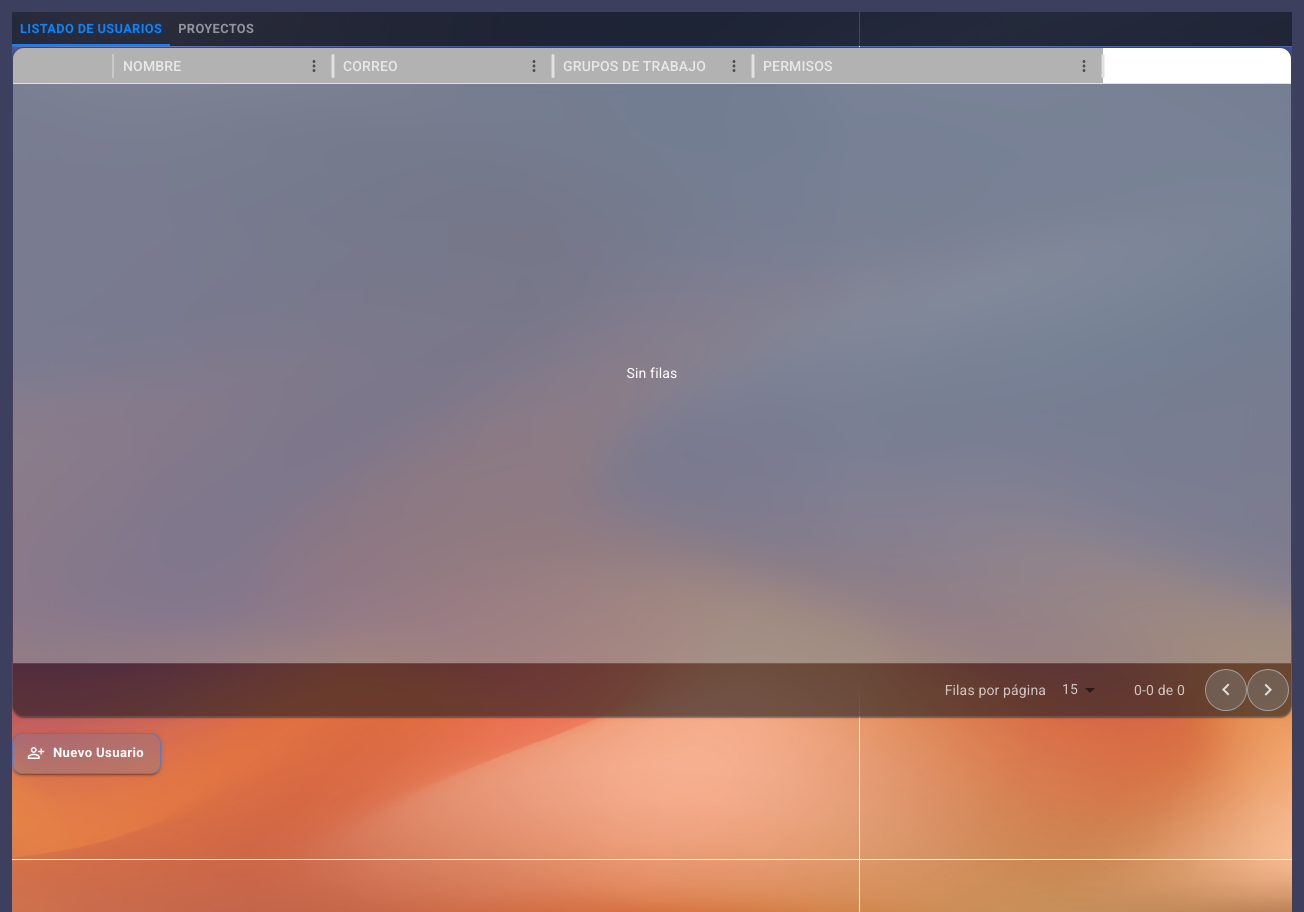
Test: AdministratorPage › navegación de pestañas › debe mostrar el botón "Nuevo Proyecto" en la pestaña de Proyectos
Click the tab "Proyectos".
click(216, 29)  # box [170,12,262,46]
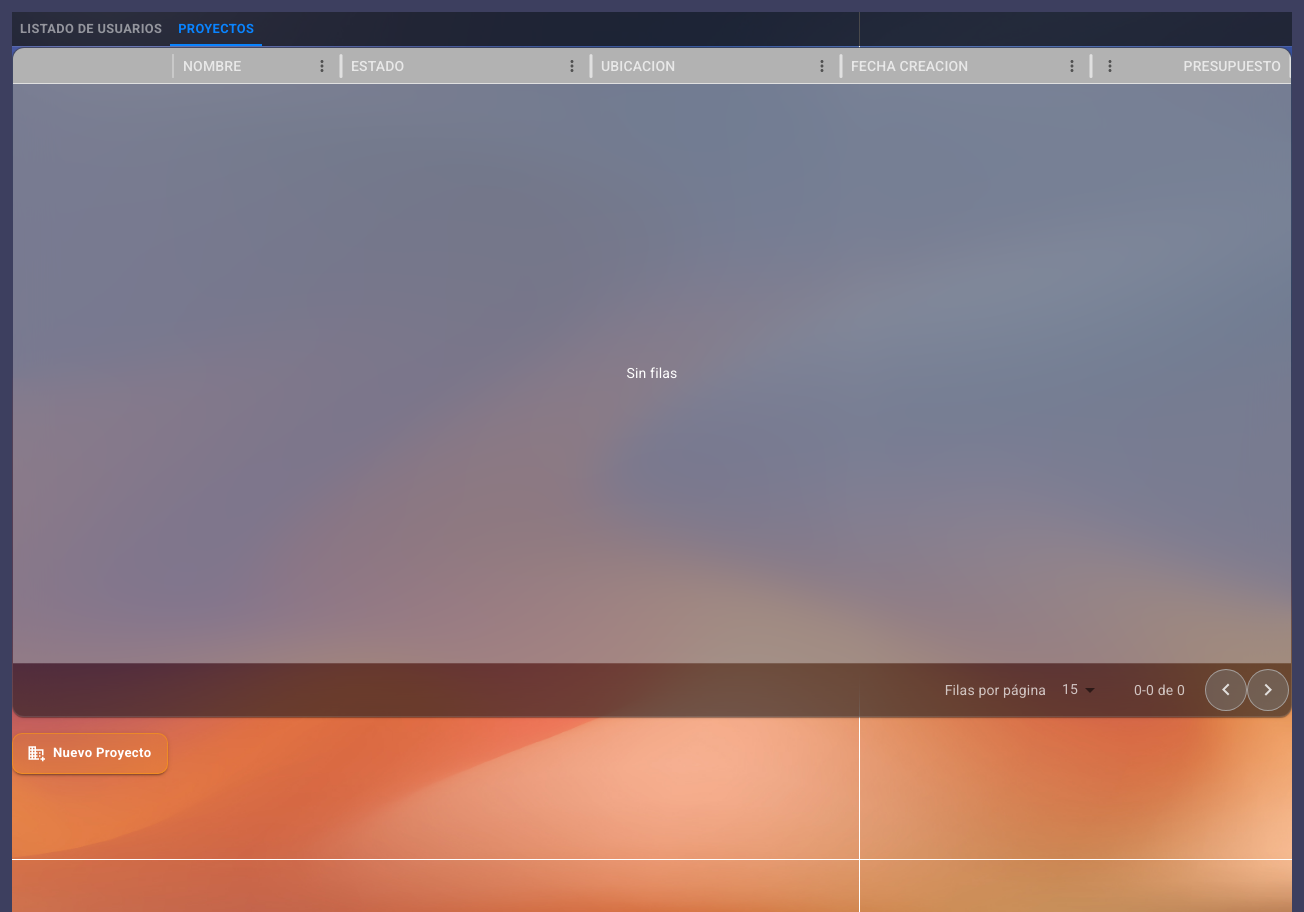
expect the button "Nuevo Proyecto" is shown: met, box [12,733,168,774]
